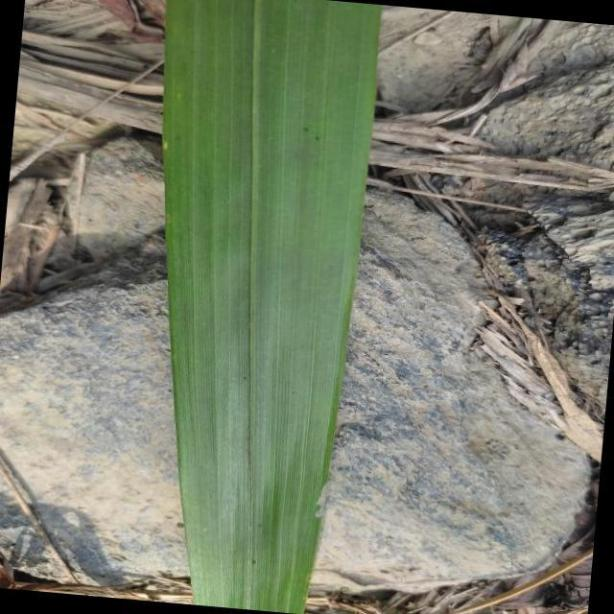Healthy: (162, 0, 385, 614)
